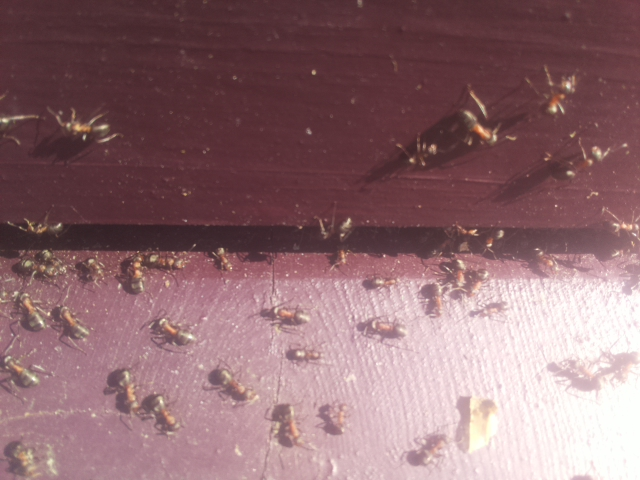ant: (445, 391, 501, 458), (104, 364, 158, 423), (447, 100, 505, 154), (535, 64, 584, 123), (545, 141, 610, 185), (263, 400, 316, 453), (200, 364, 261, 407), (50, 109, 116, 147), (145, 384, 184, 442), (400, 430, 453, 471), (0, 349, 46, 392), (148, 315, 204, 347), (2, 438, 44, 480), (395, 136, 442, 172), (17, 288, 50, 336), (57, 301, 91, 343), (367, 313, 412, 344), (10, 215, 68, 238), (317, 395, 345, 442), (314, 215, 354, 244), (270, 304, 315, 327), (421, 278, 443, 322), (126, 256, 147, 300), (465, 299, 508, 320), (532, 246, 560, 275), (283, 345, 327, 363), (213, 245, 232, 275)
